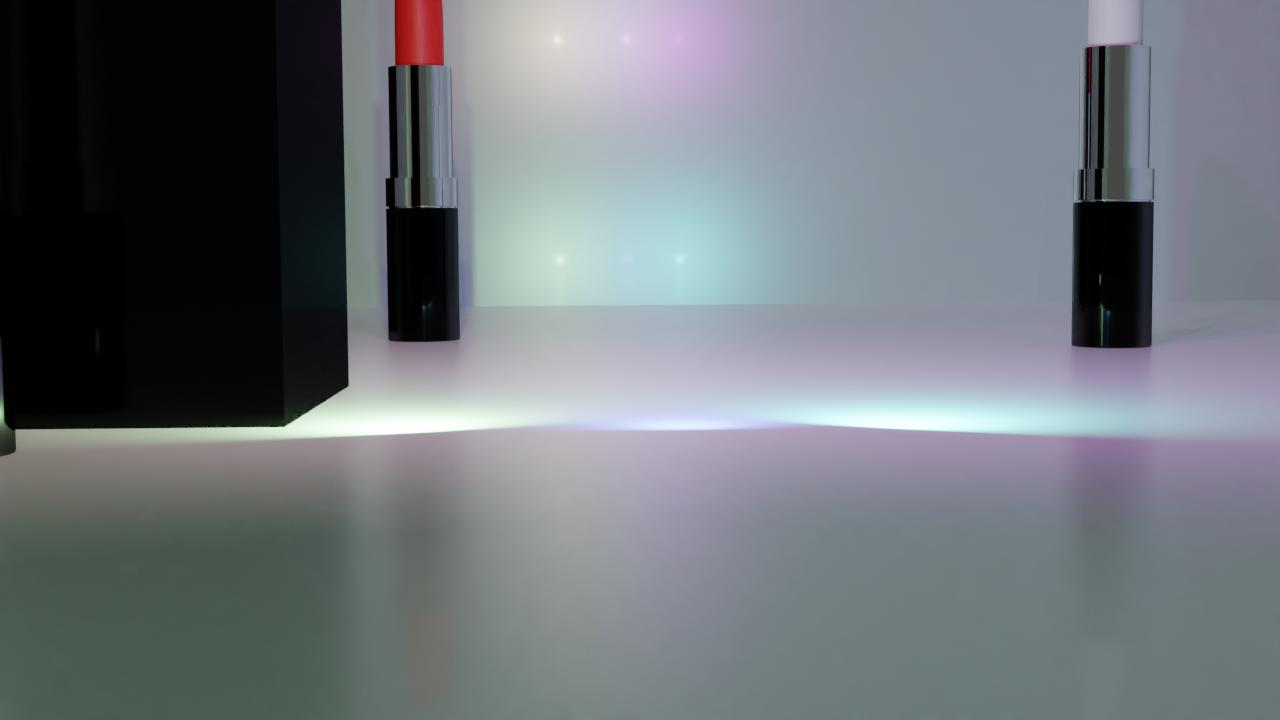CLASSIFIER_NAME: (1069, 0, 1156, 348), (384, 0, 461, 342), (0, 0, 20, 474)
